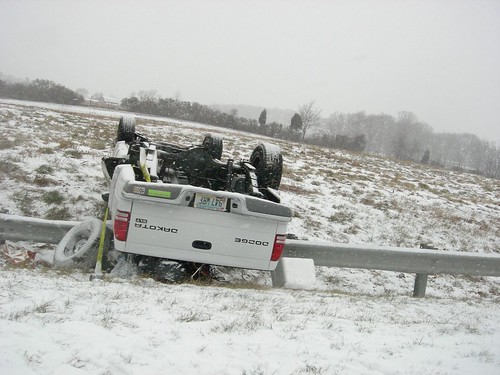car: (79, 92, 287, 286)
sky: (1, 1, 479, 130)
